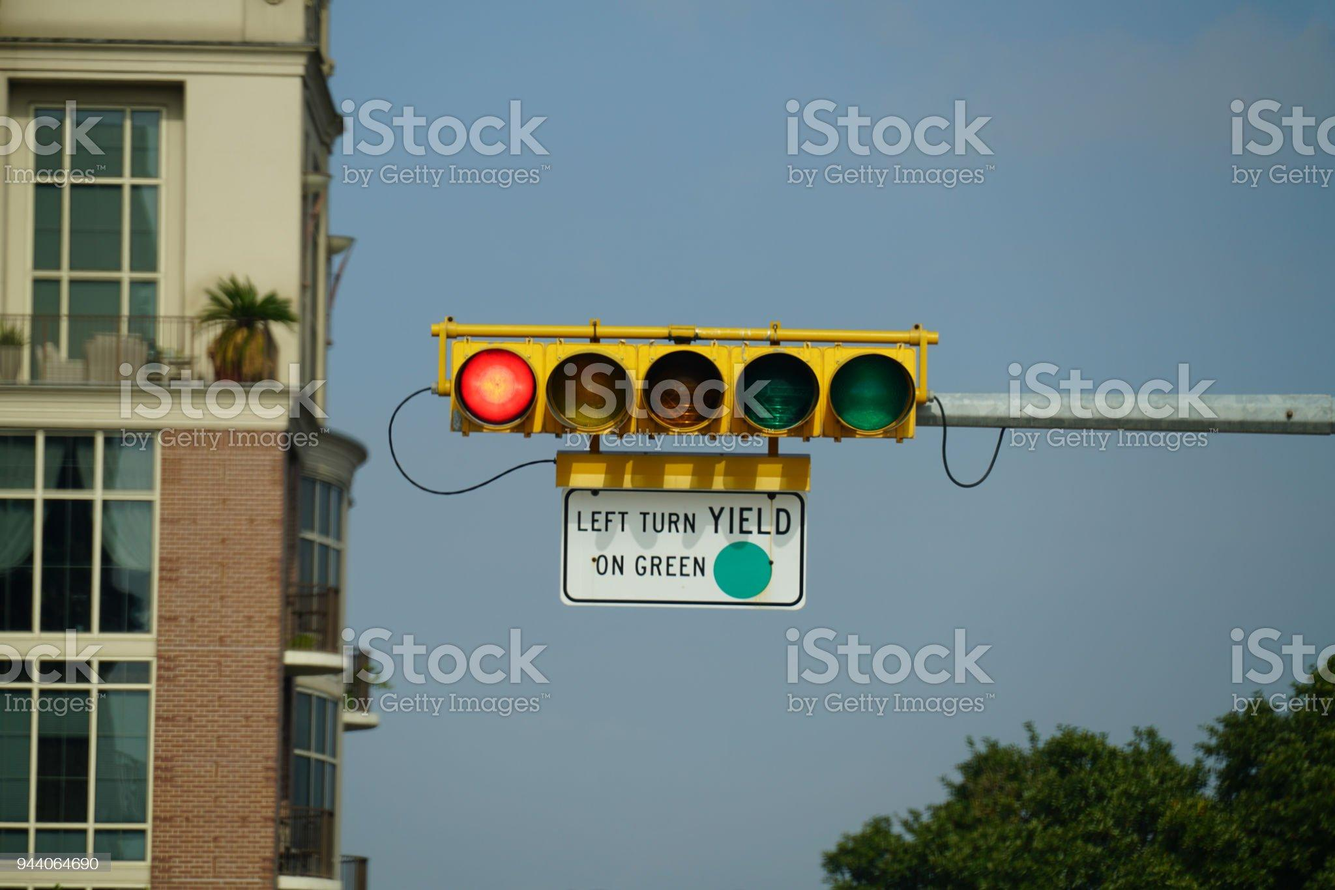red: (424, 326, 956, 450)
